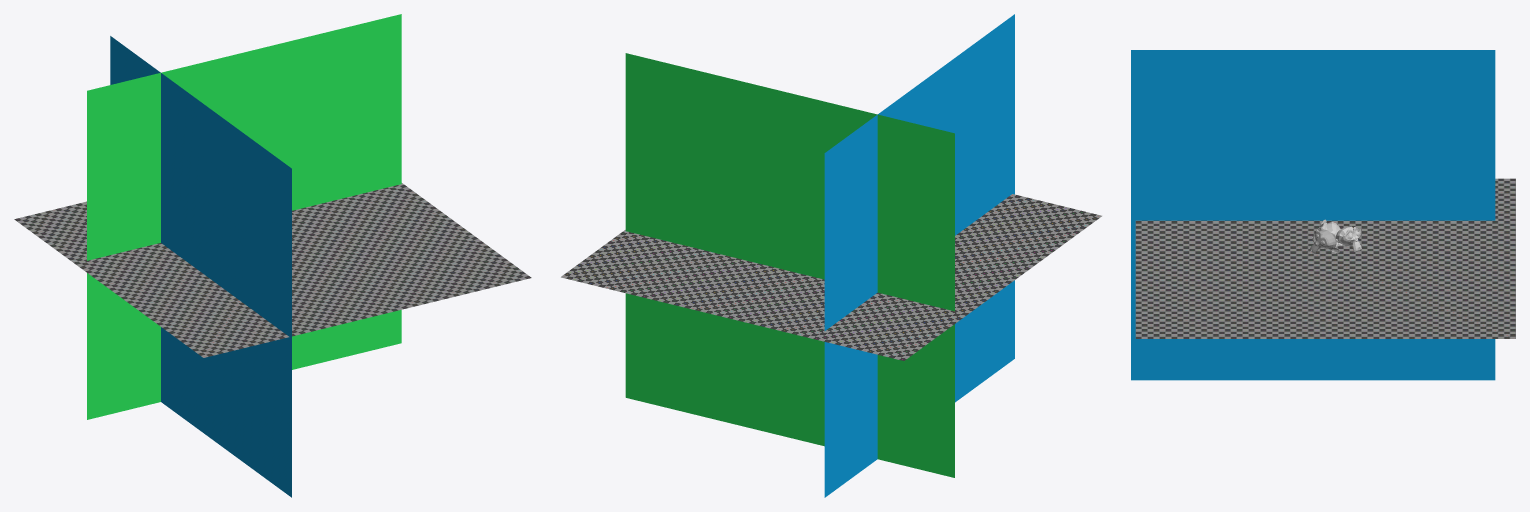
Rendered from suzannes.fbx.
3 renders of one model, left to right at view 1: azimuth 30°, elevation 25°; view 2: azimuth 150°, elevation 25°; view 3: azimuth 270°, elevation 25°, orthographic. The views are drawn at different scales.
Visible parts, largest first — view 1: PlaneBackRight, PlaneBackLeft, PlaneGround; view 2: PlaneBackRight, PlaneBackLeft, PlaneGround; view 3: PlaneBackLeft, PlaneGround, SuzanneBackRight, SuzanneMiddle.
Boxes of the visible parts, x1,y1,x2,y2 form: PlaneBackRight: (87, 14, 401, 419); PlaneBackLeft: (110, 36, 291, 497); PlaneGround: (14, 183, 531, 357); PlaneBackRight: (625, 53, 954, 477); PlaneBackLeft: (824, 14, 1014, 497); PlaneGround: (561, 194, 1101, 360); PlaneBackLeft: (1131, 50, 1495, 380); PlaneGround: (1135, 178, 1515, 338); SuzanneBackRight: (1335, 226, 1361, 251); SuzanneMiddle: (1310, 227, 1339, 253).
Bounding box in the file's own units: 2734 × 2619 × 2768.
5 materials, 4 textured.
